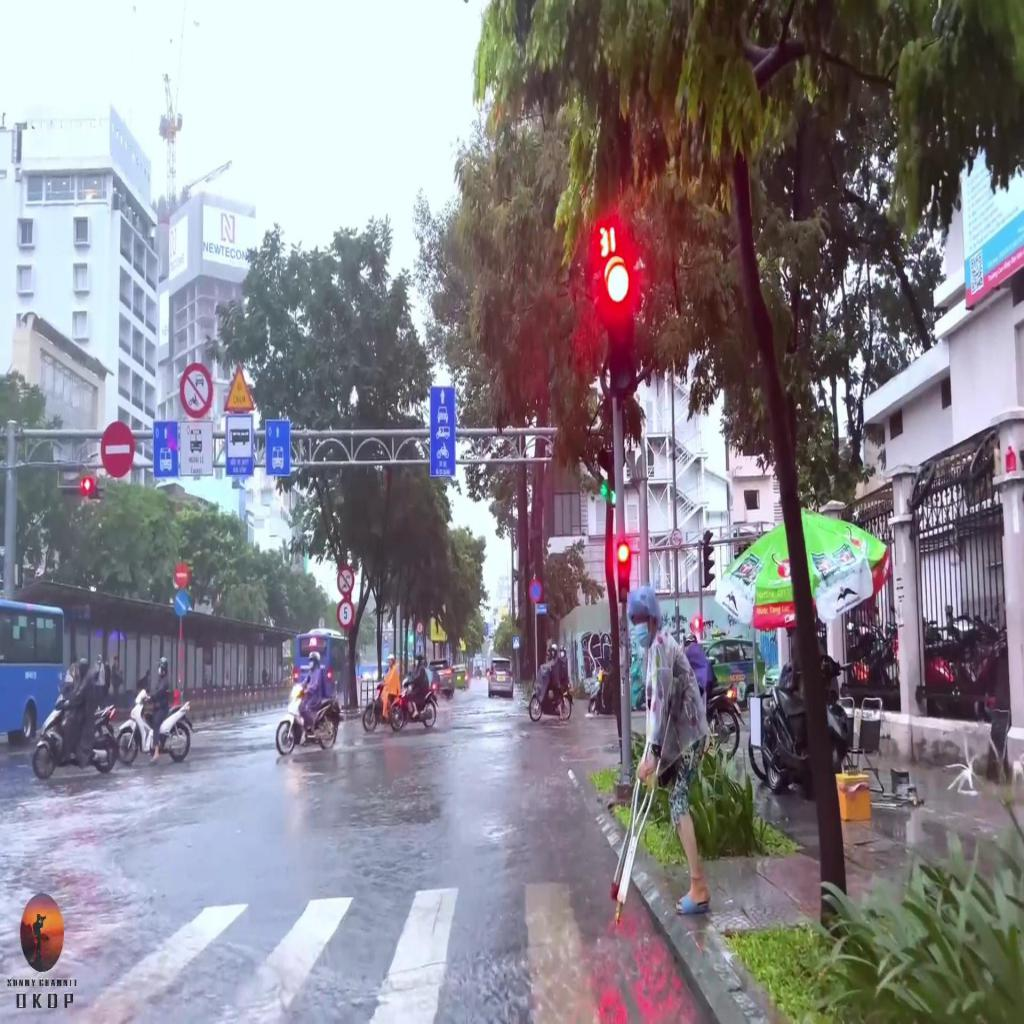cam_dung_xe_va_do_xe: (527, 578, 543, 602)
cam_xe_di_nguoc_chieu: (100, 419, 135, 478), (174, 560, 190, 588)
di_cham: (223, 356, 256, 414)
huong_phai_di_vuot_chuong_ngai_vat_phai: (173, 589, 189, 616)
khac: (430, 386, 456, 477), (179, 360, 214, 419), (224, 413, 254, 478), (179, 423, 212, 477), (153, 419, 179, 477), (265, 420, 291, 476), (336, 596, 354, 632), (336, 565, 355, 597)
